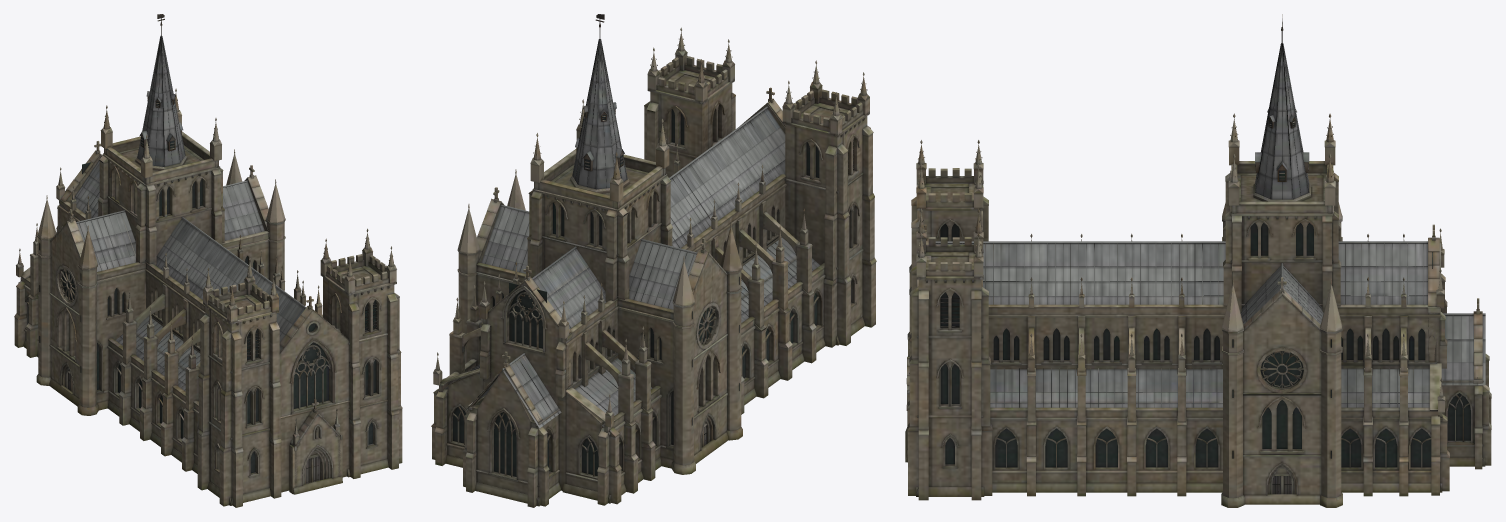
Rendered from cathedral.glb.
The picture shows the model from 3 angles, left to right: view 1: azimuth 30°, elevation 25°; view 2: azimuth 150°, elevation 25°; view 3: azimuth 270°, elevation 25°; orthographic projection. The views are drawn at different scales.
Visible parts, largest first — view 1: cathedral_LOD0; view 2: cathedral_LOD0; view 3: cathedral_LOD0.
Boxes of the visible parts, x1=… form: cathedral_LOD0: x1=14, y1=14, x2=402, y2=507; cathedral_LOD0: x1=431, y1=14, x2=876, y2=507; cathedral_LOD0: x1=905, y1=14, x2=1491, y2=507.
Size of what is drawn, in the model's own units: 31.59 by 53.25 by 65.5.
1 material, 1 textured.
